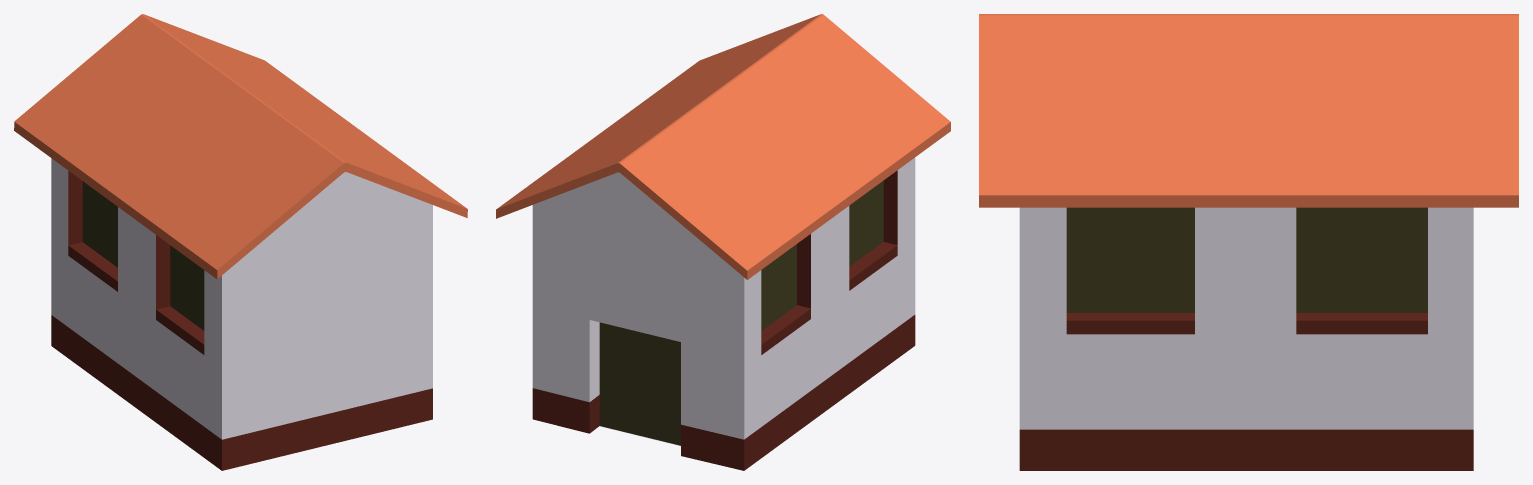
File: CasasMina2.fbx
The picture shows the model from 3 angles, left to right: view 1: azimuth 30°, elevation 25°; view 2: azimuth 150°, elevation 25°; view 3: azimuth 270°, elevation 25°; orthographic projection. The views are drawn at different scales.
Parts seen in each view (by area): view 1: Casas; view 2: Casas; view 3: Casas.
Part boxes in pixels (<box>): Casas: <box>14,14,467,470</box>; Casas: <box>496,14,950,470</box>; Casas: <box>979,14,1518,470</box>.
Bounding box in the file's own units: 238 × 266 × 334.
